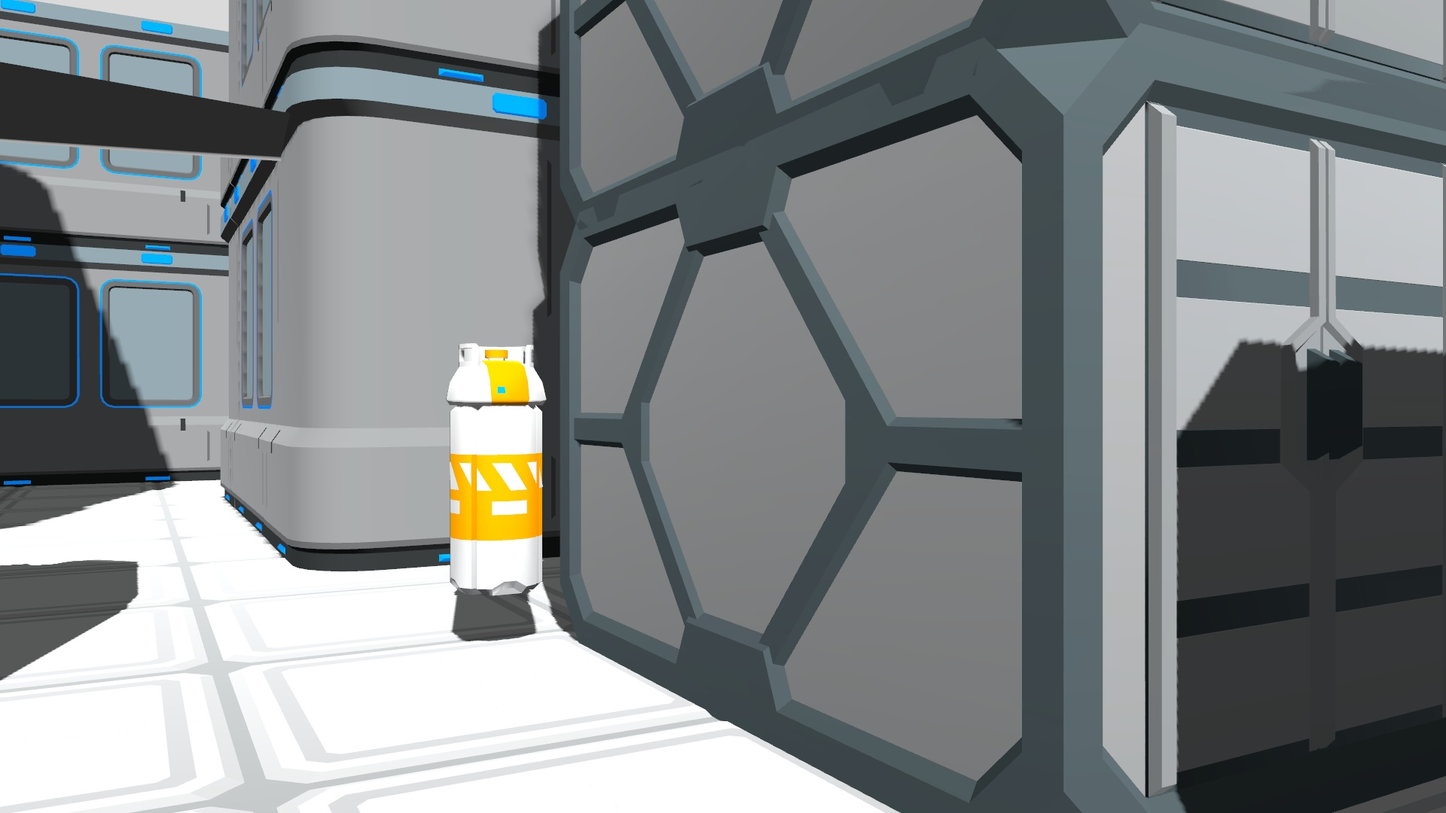yellow_barrel: (438, 337, 551, 605)
